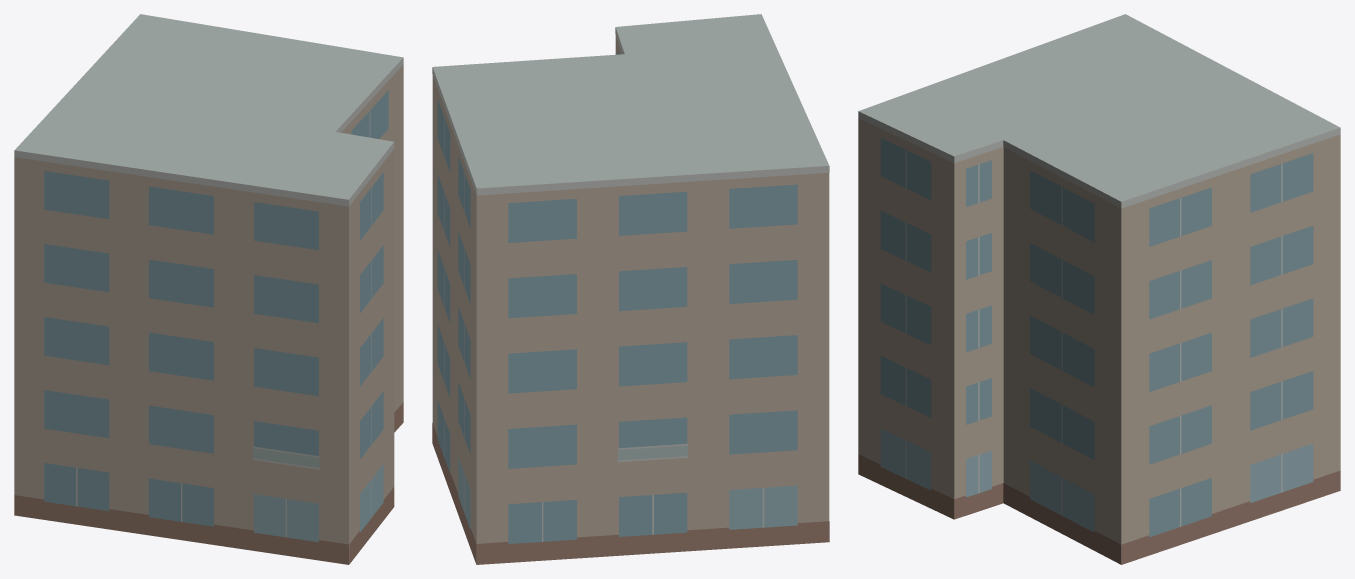
File: survey-upis-32628302.glb
3 views of the same model, side by side, from view 1: azimuth 30°, elevation 25°; view 2: azimuth 150°, elevation 25°; view 3: azimuth 270°, elevation 25° (orthographic). The views are drawn at different scales.
Parts seen in each view (by area): view 1: survey-upis-32628302.tmp; view 2: survey-upis-32628302.tmp; view 3: survey-upis-32628302.tmp.
Part boxes in pixels (bbox=[...]): survey-upis-32628302.tmp: bbox=[14, 14, 403, 564]; survey-upis-32628302.tmp: bbox=[432, 14, 829, 564]; survey-upis-32628302.tmp: bbox=[858, 14, 1340, 564].
Bounding box in the file's own units: 14.66 × 13.2 × 15.91.
